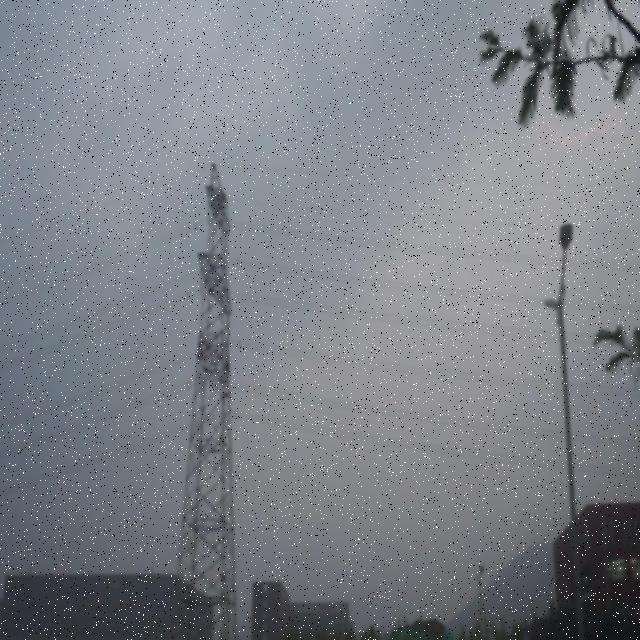UAV: (222, 392, 232, 398)
